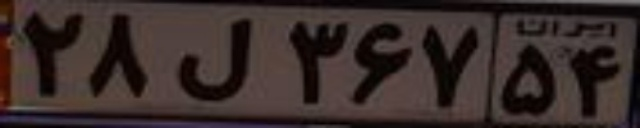2: (20, 8, 82, 99)
3: (286, 21, 346, 106)
4: (569, 45, 622, 118)
5: (502, 43, 558, 114)
6: (353, 23, 410, 106)
7: (419, 25, 476, 107)
8: (86, 11, 151, 100)
lam: (176, 16, 249, 102)
